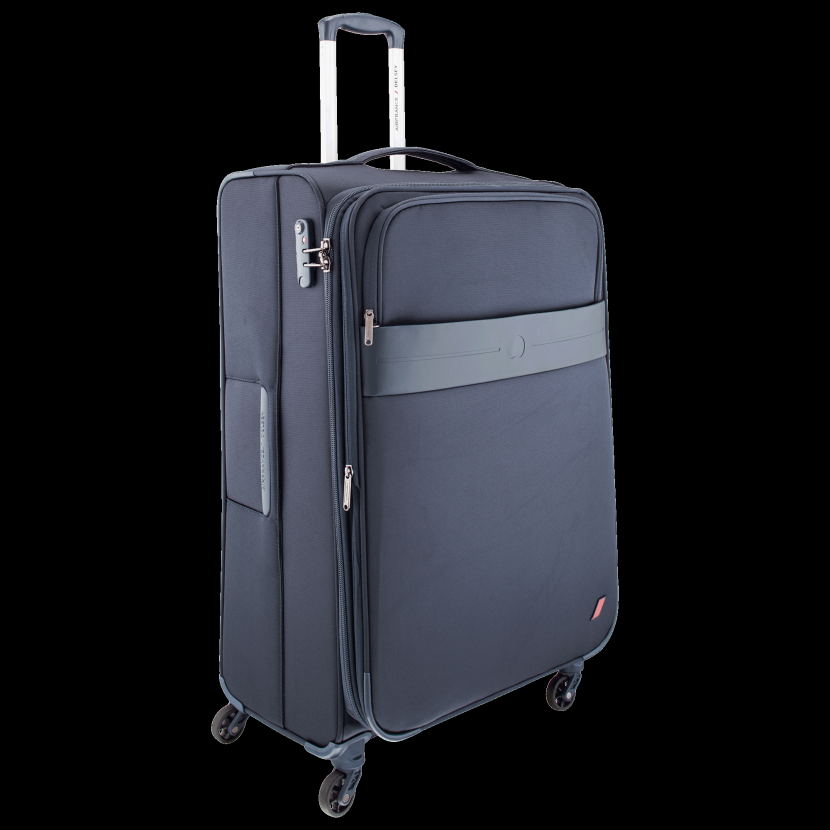box: (216, 164, 619, 753)
handle: (336, 145, 480, 172)
lock: (295, 216, 332, 290)
wheel: (317, 767, 358, 819), (545, 673, 580, 712), (211, 706, 246, 744)
